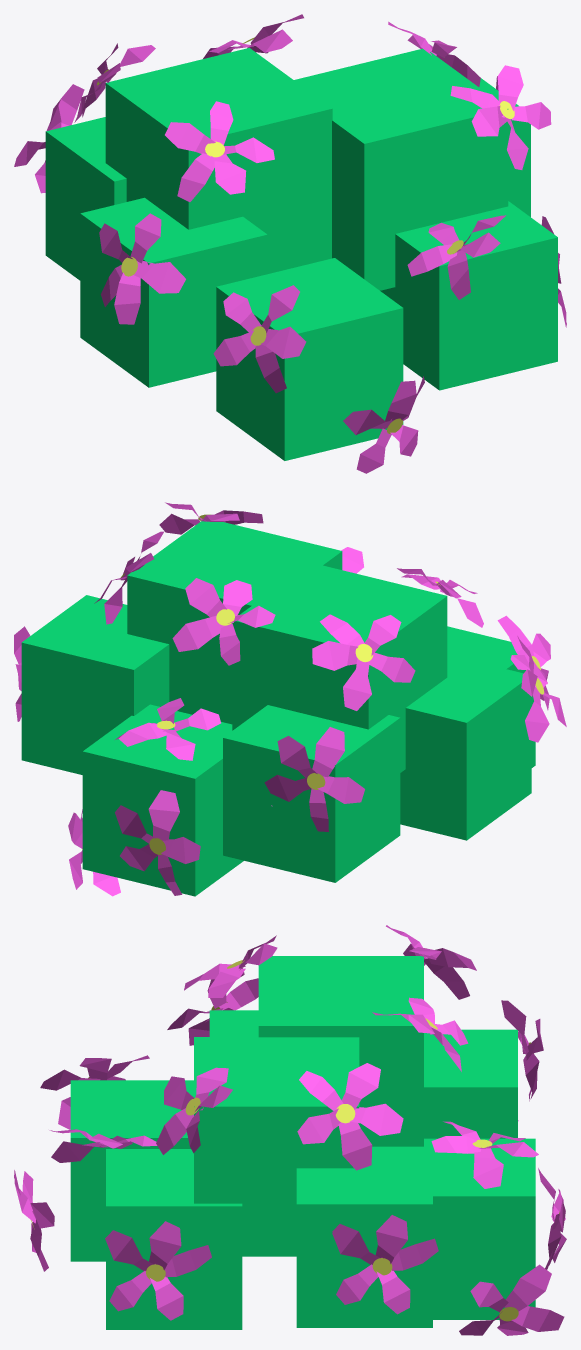
Rendered from CooktownOrchid.glb.
3 views of the same model, one above another, from view 1: azimuth 30°, elevation 25°; view 2: azimuth 150°, elevation 25°; view 3: azimuth 270°, elevation 25° (orthographic). The views are drawn at different scales.
Visible parts, largest first — view 1: 立方体.008, 立方体.006, 立方体.001, 立方体.002, 立方体, 立方体.004, 平面.003, 平面.016, 平面.015, 平面.002, 平面.017, 平面.021 (+5 smaller); view 2: 立方体.008, 立方体.004, 立方体, 立方体.005, 立方体.003, 立方体.006, 平面.004, 平面.014, 平面.011, 平面.020, 平面.012, 立方体.001 (+8 smaller); view 3: 立方体.006, 立方体.005, 立方体.008, 立方体.002, 立方体.003, 立方体.001, 立方体.004, 平面.018, 平面.001, 平面, 平面.019, 平面.002 (+11 smaller).
Boxes of the visible parts, x1,y1,x2,y2 form: 立方体.008: (105,48,332,273); 立方体.006: (294,48,508,290); 立方体.001: (216,258,403,460); 立方体.002: (380,201,557,390); 立方体: (80,197,267,387); 立方体.004: (45,117,126,280); 平面.003: (165,101,274,201); 平面.016: (213,285,306,393); 平面.015: (99,213,185,324); 平面.002: (450,65,551,169); 平面.017: (407,215,505,299); 平面.021: (343,376,424,473); 立方体.008: (232,562,447,772); 立方体.004: (223,705,400,882); 立方体: (400,655,531,840); 立方体.005: (21,595,169,774); 立方体.003: (82,704,243,896); 立方体.006: (127,521,342,724); 平面.004: (312,614,415,710); 平面.014: (264,727,364,831); 平面.011: (172,578,275,665); 平面.020: (115,790,200,895); 平面.012: (115,698,220,760); 立方体.001: (447,626,535,767); 立方体.006: (194,1037,359,1256); 立方体.005: (296,1146,432,1327); 立方体.008: (258,956,423,1146); 立方体.002: (106,1149,242,1329); 立方体.003: (424,1138,535,1319); 立方体.001: (70,1080,193,1261); 立方体.004: (424,1029,517,1138); 平面.018: (297,1063,403,1170); 平面.001: (105,1221,211,1320); 平面: (332,1215,438,1314); 平面.019: (459,1264,564,1335); 平面.002: (156,1067,232,1154).
Bounding box in the file's own units: 8.12 × 4.88 × 8.11.
